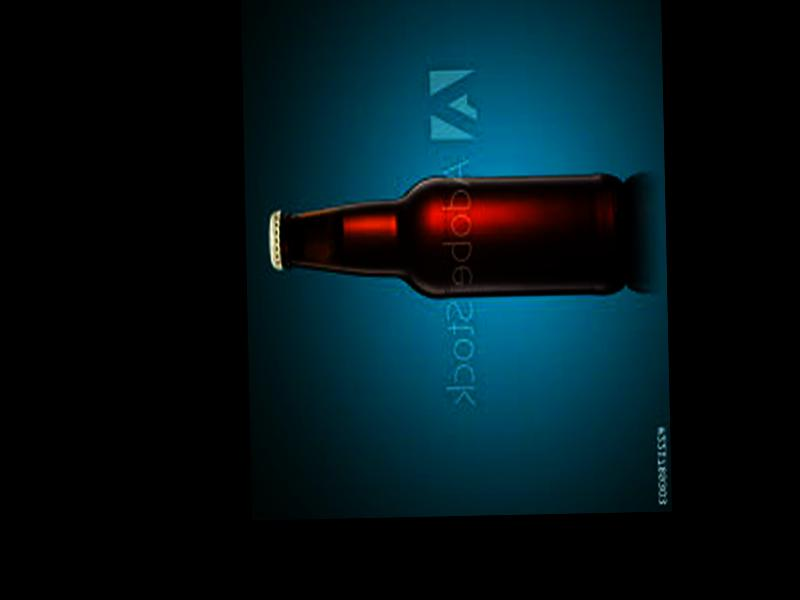Beer: (267, 174, 628, 303)
